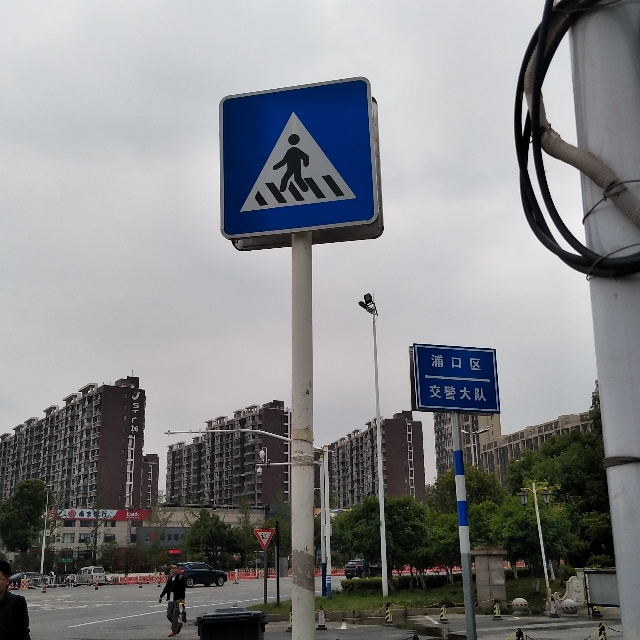crosswalk: (231, 102, 372, 228)
